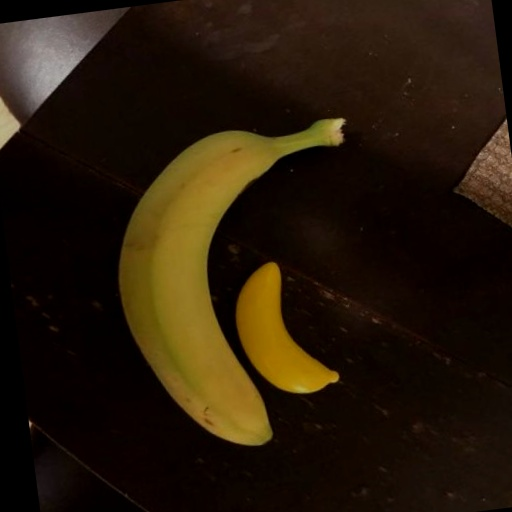fruit: (119, 119, 344, 445), (236, 262, 338, 393)
